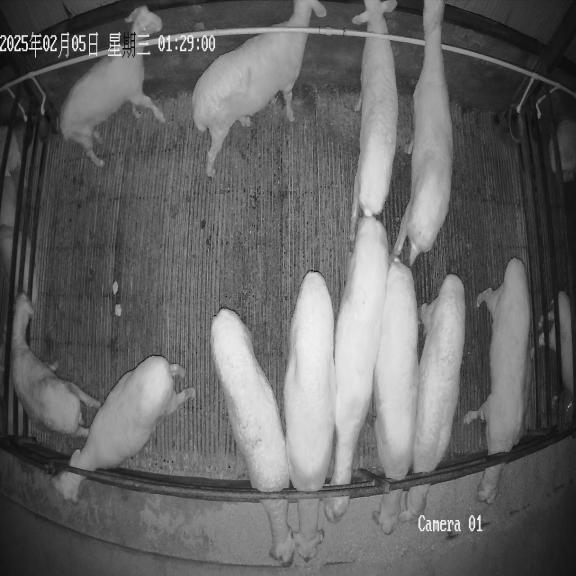eating: (211, 308, 295, 566), (320, 216, 389, 523), (398, 274, 465, 522), (464, 258, 530, 504), (283, 271, 335, 561), (372, 257, 419, 534)
stand: (192, 0, 326, 177), (52, 355, 196, 501), (59, 6, 165, 167), (392, 0, 453, 266), (11, 294, 101, 438), (351, 0, 398, 240)
